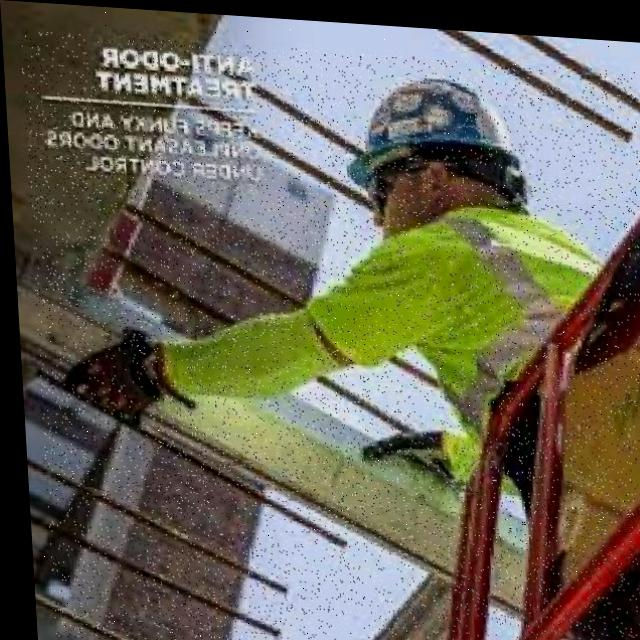Gloves: (55, 322, 165, 424)
Helmet: (344, 64, 528, 198)
